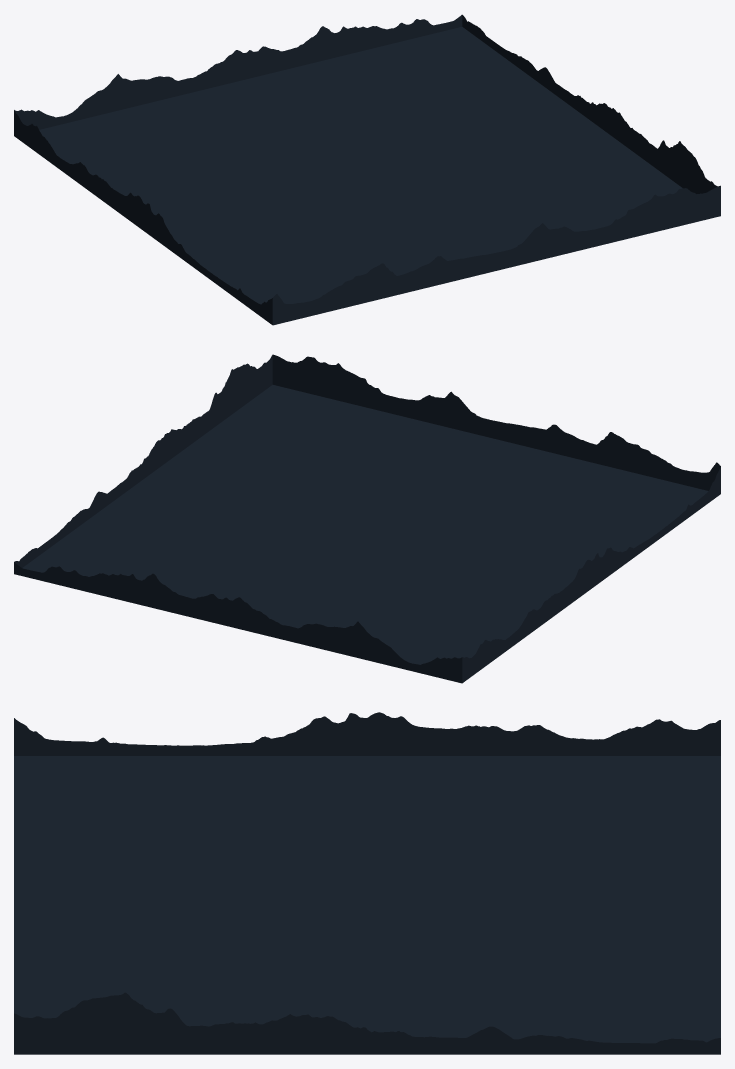
The model's file is plinth.glb.
3 renders of one model, top to bottom at view 1: azimuth 30°, elevation 25°; view 2: azimuth 150°, elevation 25°; view 3: azimuth 270°, elevation 25°, orthographic. The views are drawn at different scales.
Visible parts, largest first — view 1: Plinth; view 2: Plinth; view 3: Plinth.
Boxes of the visible parts, box(x1,y1,x2,y2) form: Plinth: box(14, 14, 720, 325); Plinth: box(14, 354, 720, 683); Plinth: box(14, 712, 720, 1054).
Size of the model in its own units: 36864 by 3573 by 36864.
